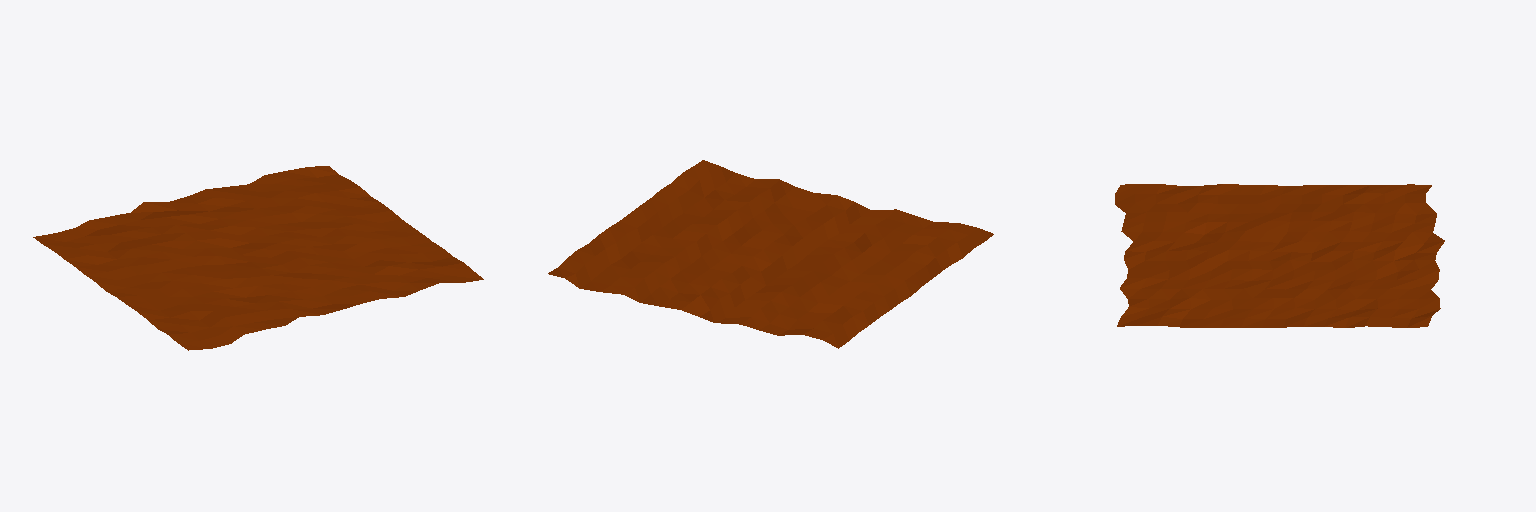
The model's file is terrain.obj.
3 views of the same model, side by side, from view 1: azimuth 30°, elevation 25°; view 2: azimuth 150°, elevation 25°; view 3: azimuth 270°, elevation 25° (orthographic).
Visible parts, largest first — view 1: Plane001; view 2: Plane001; view 3: Plane001.
Part boxes in pixels (x1,y1,x2,y2): Plane001: (33,166,483,350); Plane001: (548,160,993,348); Plane001: (1115,184,1444,327).
Size of the model in its own units: 170 by 2.45 by 164.